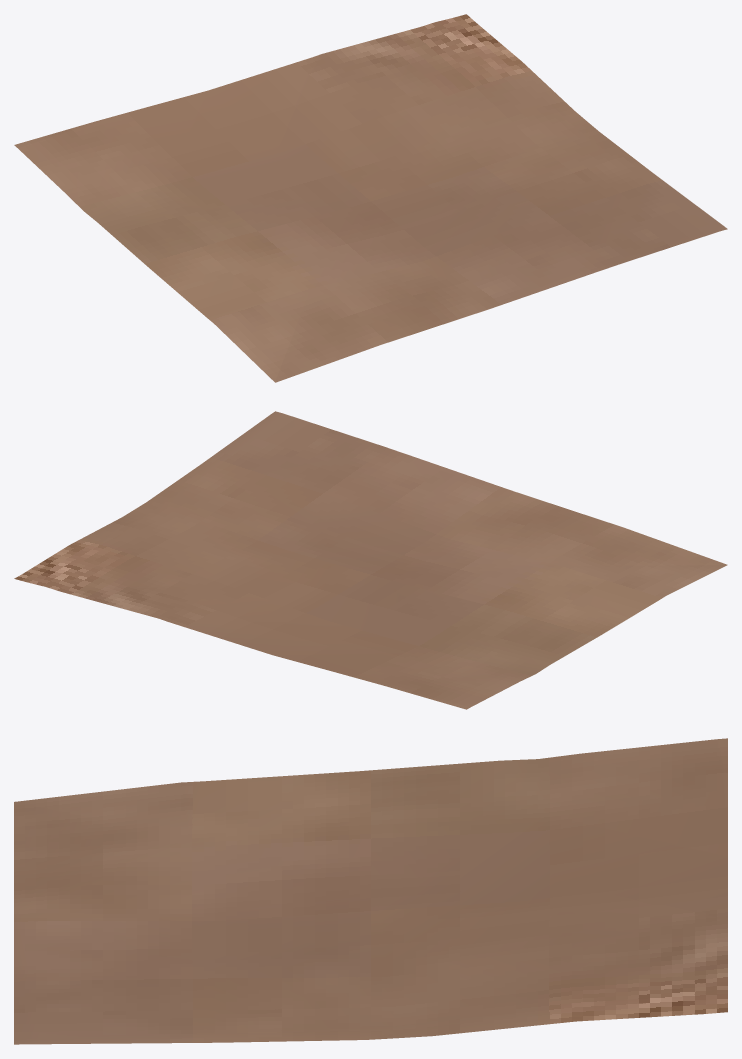
3 views of the same model, one above another, from view 1: azimuth 30°, elevation 25°; view 2: azimuth 150°, elevation 25°; view 3: azimuth 270°, elevation 25° (orthographic). The views are drawn at different scales.
Bounding box in the file's own units: 16 × 2.26 × 16.
Materials: 1 (1 with a texture image).
